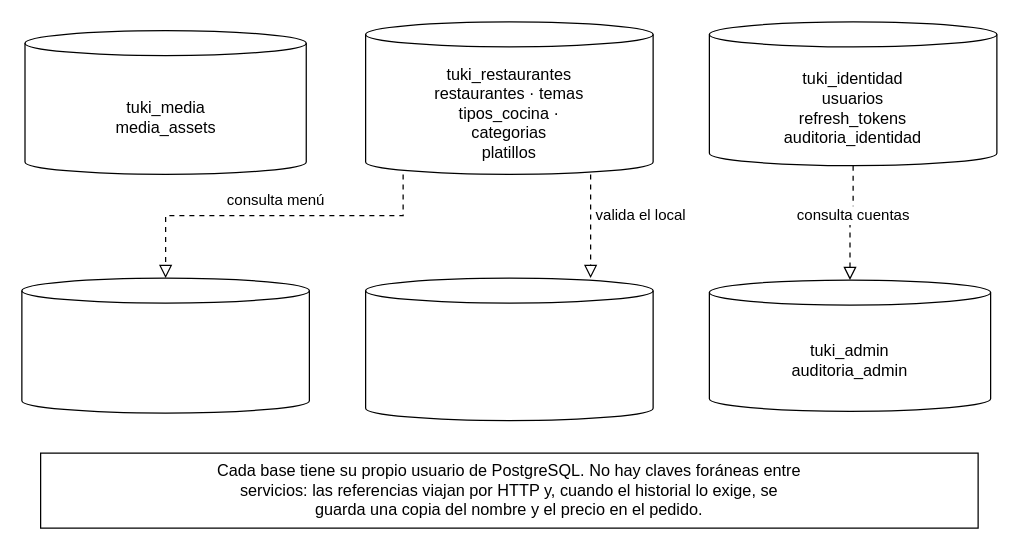
The diagram is 1019 pixels wide and 550 high, and some of its shapes have lost their labels. Each missing label, with the centre of its shape:
"tuki_pedidos pedidos pedido_items" goes at (165,345).
"tuki_resenas resenas resenas_utiles" goes at (508,349).
